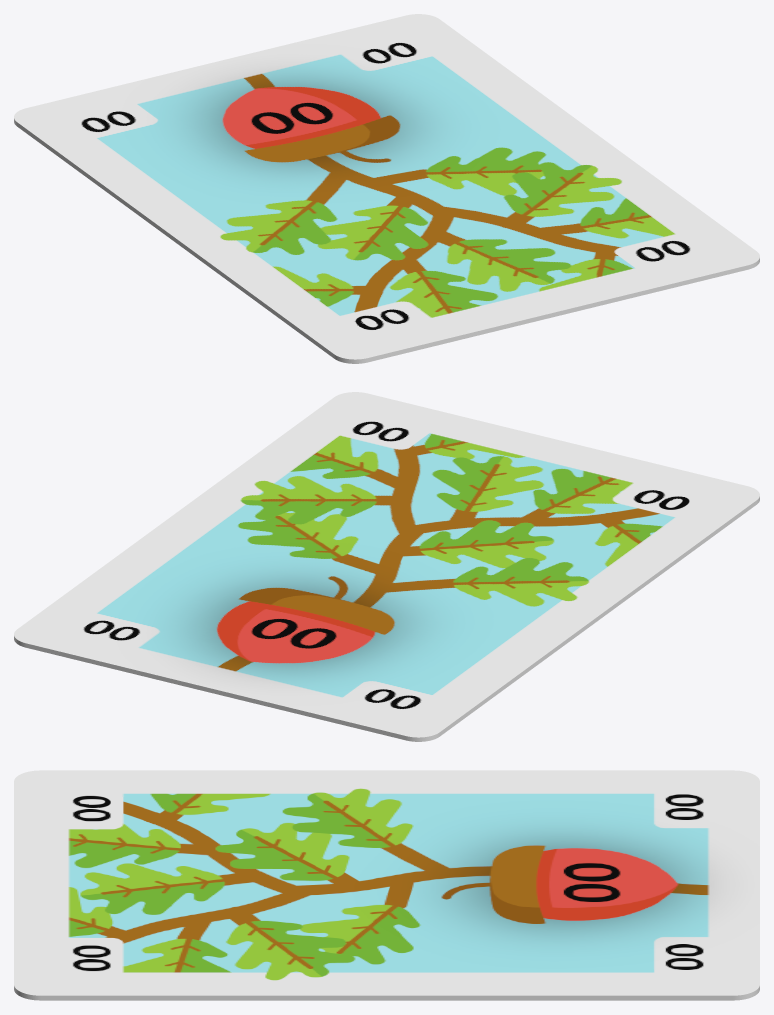
File: Card.obj
3 renders of one model, top to bottom at view 1: azimuth 30°, elevation 25°; view 2: azimuth 150°, elevation 25°; view 3: azimuth 270°, elevation 25°, orthographic. The views are drawn at different scales.
Parts seen in each view (by area): view 1: Cube; view 2: Cube; view 3: Cube.
Part boxes in pixels (x1,y1,x2,y2): Cube: (14, 14, 759, 363); Cube: (14, 392, 759, 741); Cube: (14, 770, 759, 1000).
Bounding box in the file's own units: 2 × 0.02 × 2.8.
